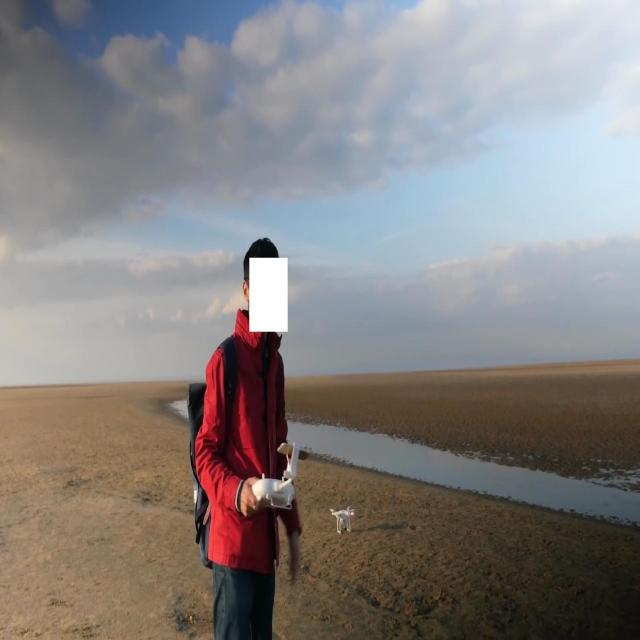drones: (328, 499, 360, 541)
